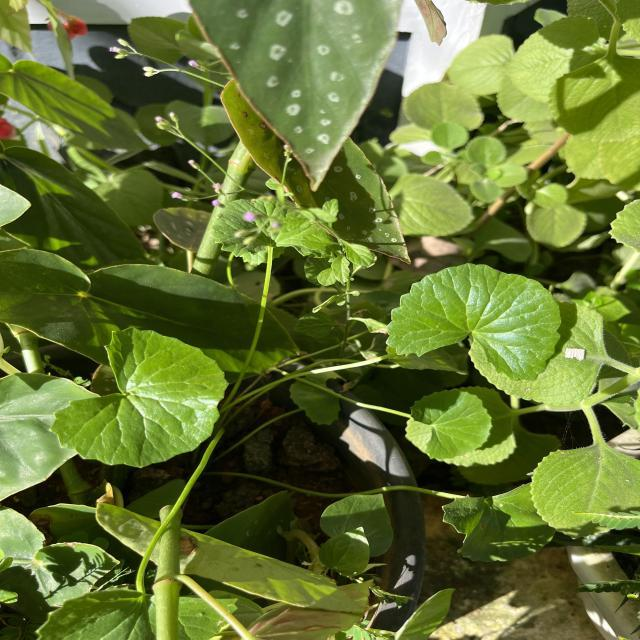Centella asiatica: (46, 324, 232, 471), (382, 261, 565, 384)
